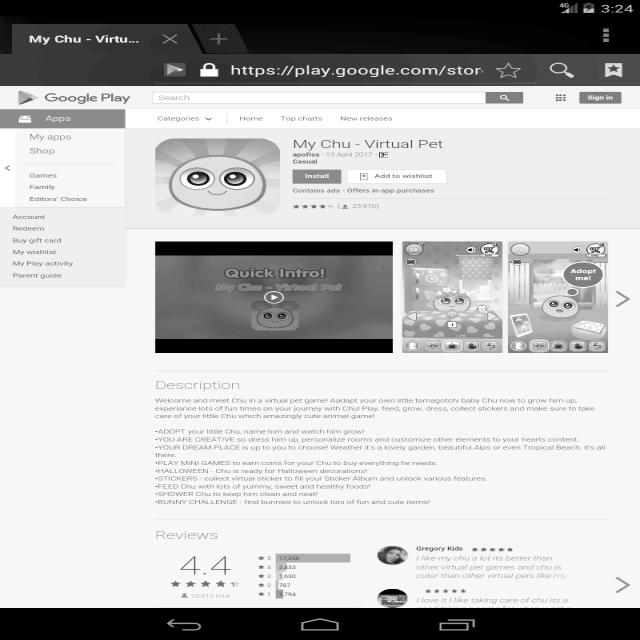Button: (286, 167, 344, 185), (574, 86, 626, 106)
EditText: (146, 88, 532, 108)
ImageButton: (488, 58, 527, 84), (543, 58, 579, 82), (595, 59, 629, 81), (591, 25, 619, 45)
ImageView: (157, 243, 606, 350), (151, 134, 275, 212), (272, 549, 347, 597), (370, 587, 409, 607), (374, 542, 404, 564)
RatingBar: (168, 578, 246, 590), (422, 584, 476, 596), (468, 546, 521, 552)
TextView: (150, 428, 614, 507), (152, 398, 606, 420), (9, 213, 74, 279), (230, 63, 486, 79), (290, 134, 448, 149), (22, 30, 136, 46), (151, 377, 248, 391)
